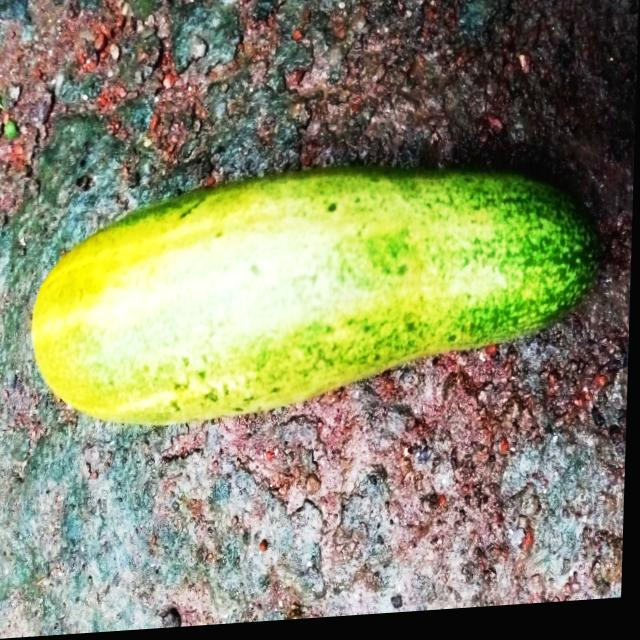Fresh-Cucumber: (30, 155, 608, 439)
